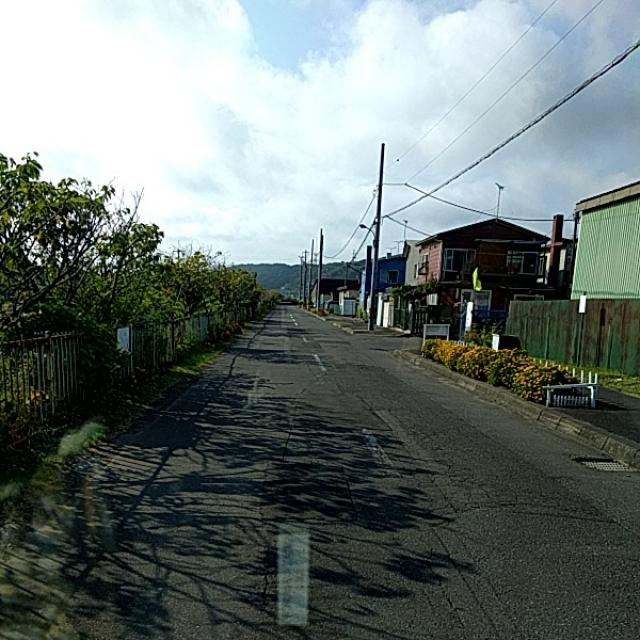pothole: (364, 387, 547, 536)
